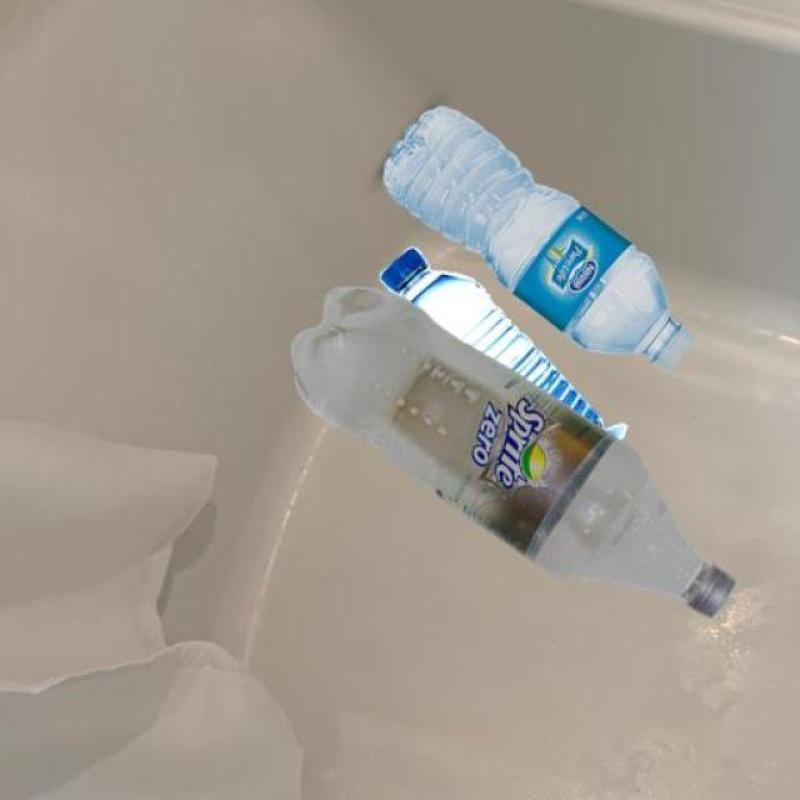botella: (288, 289, 731, 620), (381, 105, 693, 369), (378, 248, 607, 427)
